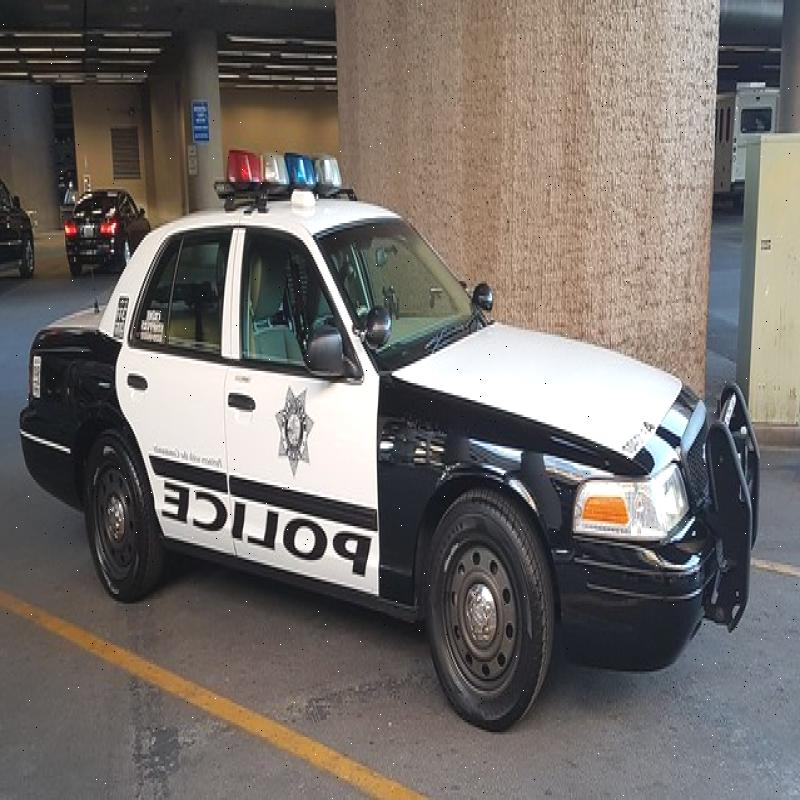AmbulanceSiren: (222, 125, 354, 209)
